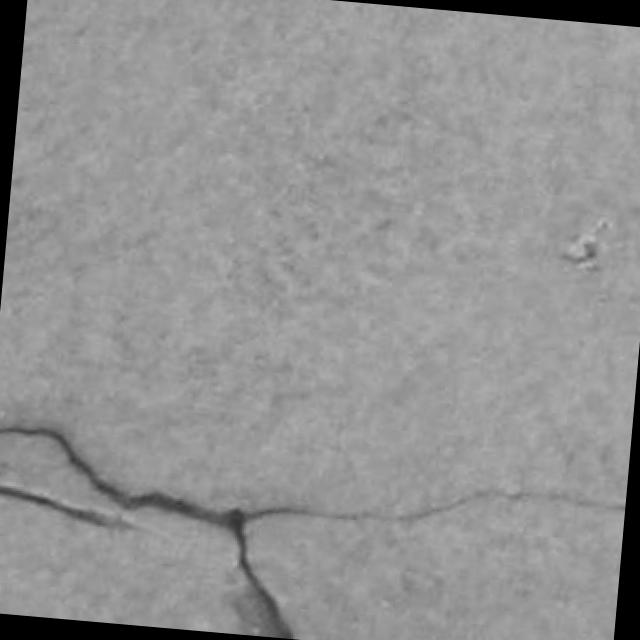crack: (0, 425, 625, 638), (0, 425, 292, 638), (0, 425, 232, 527), (247, 487, 625, 523), (231, 509, 292, 638), (0, 483, 135, 529)
